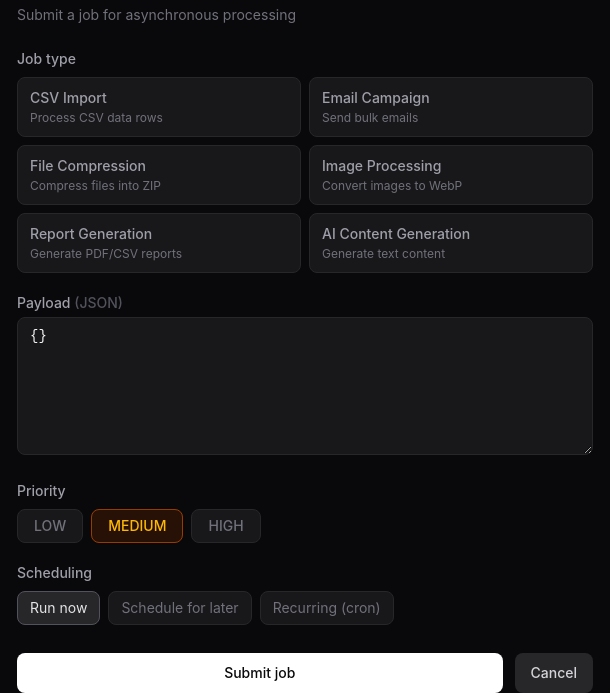
CreateJob form validation › shows error when scheduled date is empty in future mode
Click the text "CSV Import". click: [68, 98]
box: [30, 89, 107, 106]
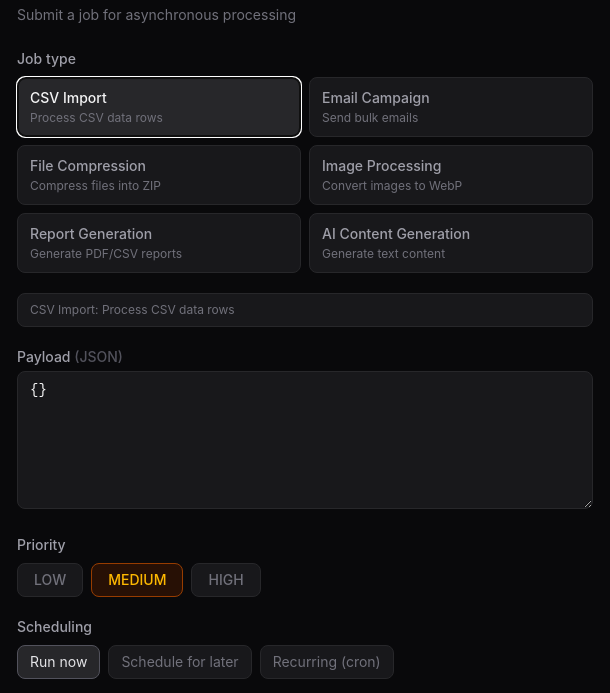
Click the button "Schedule for later". click: [180, 662]
box: [108, 645, 252, 679]
(page scrolled)
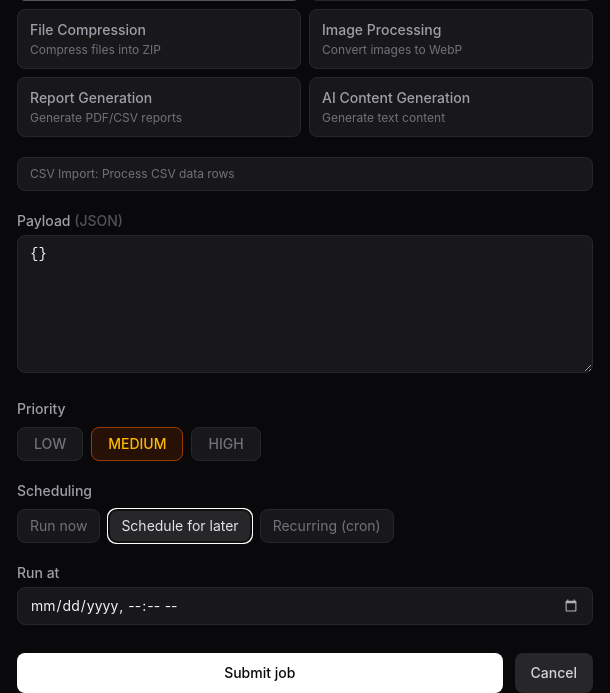
Click the button "Submit job". click: [260, 673]
box: [17, 653, 502, 692]
(page scrolled)
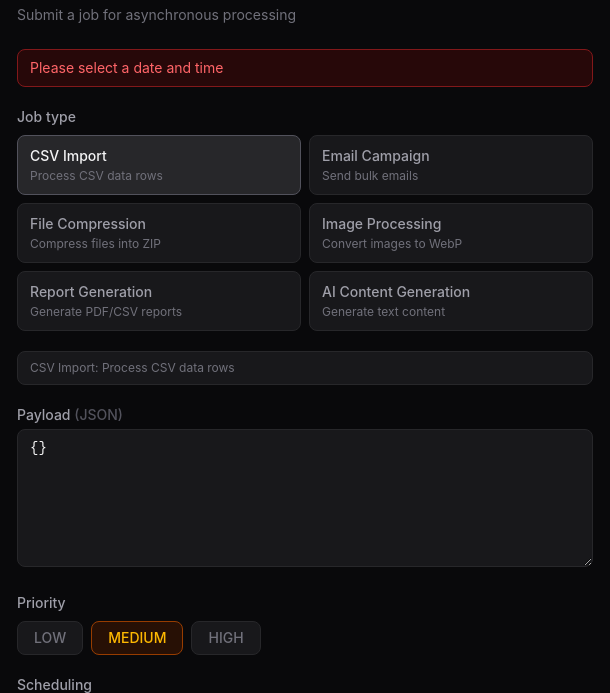
Expected: the text "Please select a date and time" is shown, [17, 49, 593, 87]
